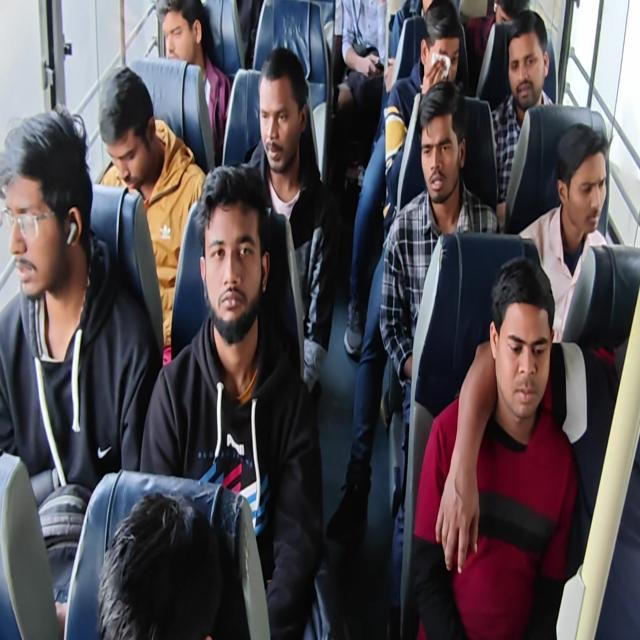person: (104, 482, 253, 640), (0, 104, 94, 310), (201, 178, 255, 323), (494, 291, 551, 417), (253, 67, 311, 187), (99, 68, 151, 184), (148, 0, 213, 89), (562, 135, 608, 240), (416, 97, 459, 201), (424, 16, 462, 100), (506, 31, 540, 106), (495, 0, 539, 32)
